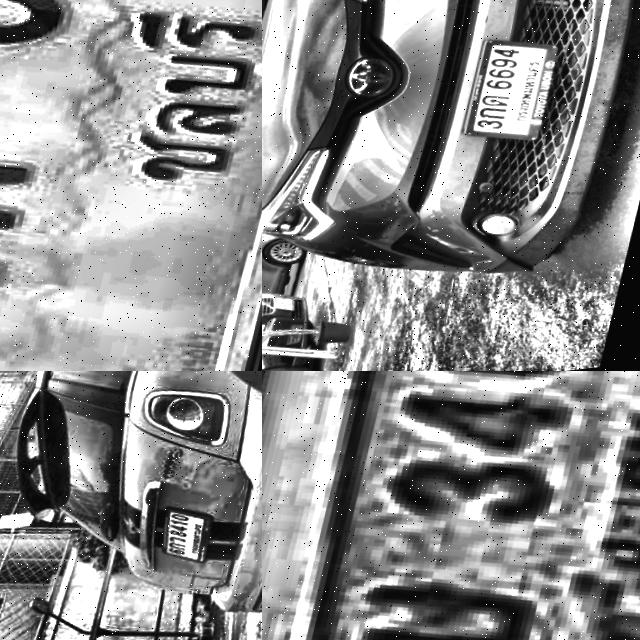license-plate: (262, 371, 640, 640), (0, 0, 262, 371), (462, 41, 570, 162), (159, 509, 221, 575), (278, 298, 305, 320)
